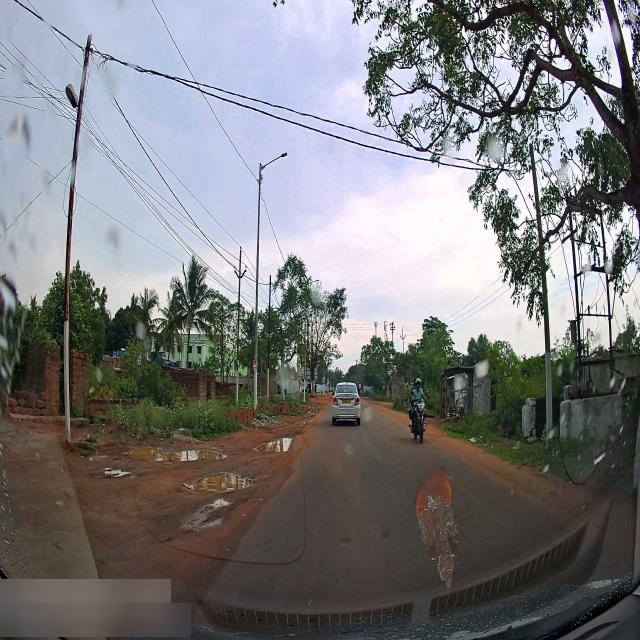pothole: (184, 471, 252, 500), (94, 460, 137, 490), (168, 445, 226, 463), (254, 431, 294, 456), (131, 443, 164, 465), (193, 498, 229, 517), (311, 404, 317, 417)
